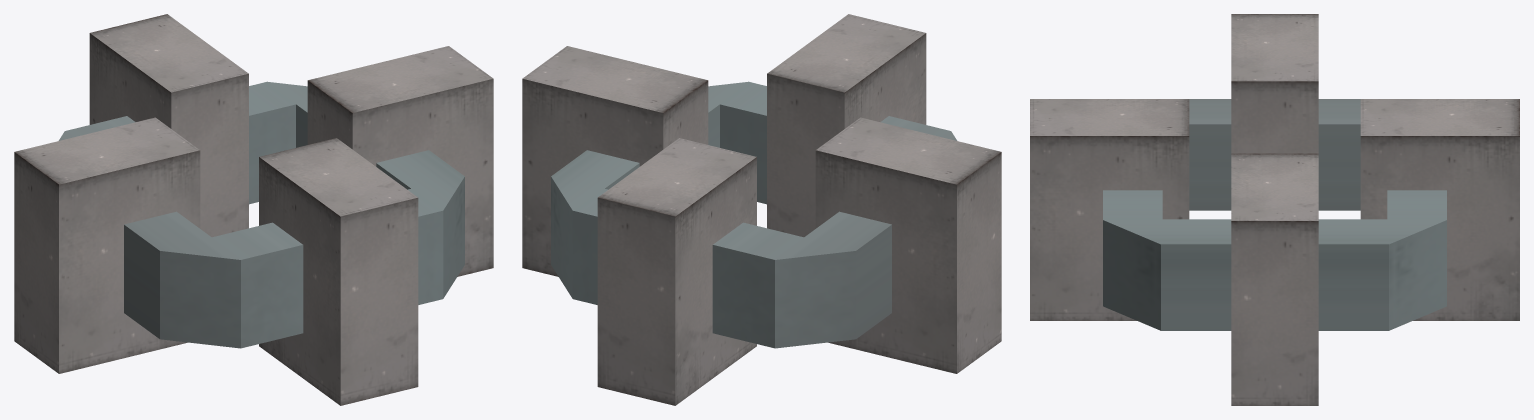
File: Decoration_2.fbx
The picture shows the model from 3 angles, left to right: view 1: azimuth 30°, elevation 25°; view 2: azimuth 150°, elevation 25°; view 3: azimuth 270°, elevation 25°; orthographic projection. The views are drawn at different scales.
Parts seen in each view (by area): view 1: Cube.162; view 2: Cube.162; view 3: Cube.162.
Boxes of the visible parts, <box> form: Cube.162: <box>14,14,493,405</box>; Cube.162: <box>522,14,1001,405</box>; Cube.162: <box>1030,14,1519,405</box>.
Size of the model in its own units: 1.91 by 0.797 by 1.91.
